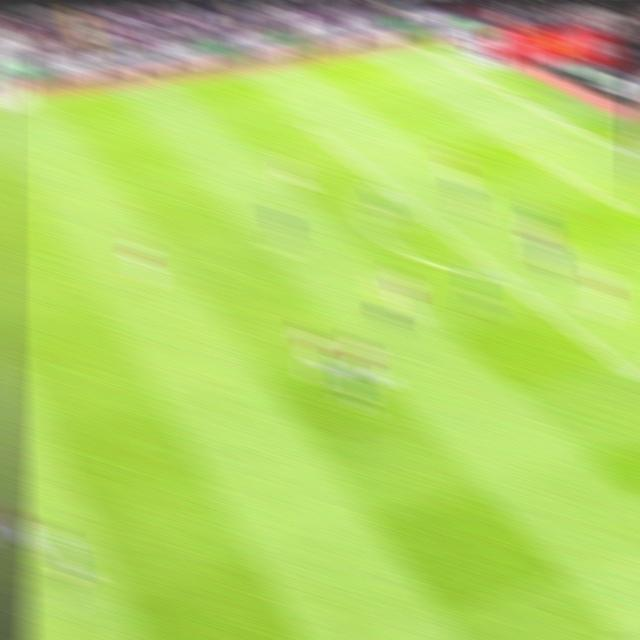bigarea_top_inner: (296, 114, 320, 134)
bigarea_top_outter: (488, 80, 511, 94)
bottom_arc_area_intersection: (492, 267, 518, 286)
corner: (402, 38, 425, 51)
smallarea_top_inner: (505, 137, 531, 155)
smallarea_top_outter: (573, 123, 596, 141)
top_arc_area_intersection: (374, 175, 395, 192)
